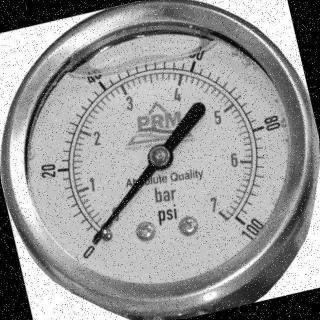gauge: (0, 0, 320, 319), (223, 202, 264, 245), (74, 223, 114, 263), (146, 142, 174, 170), (87, 229, 105, 247)
